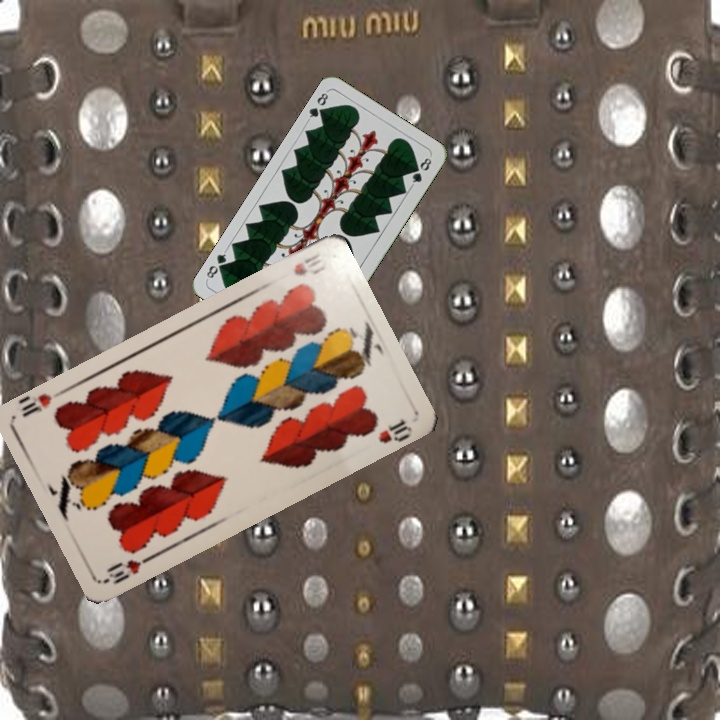G8: (303, 87, 331, 124)
H10: (102, 550, 157, 588), (289, 249, 330, 278)
